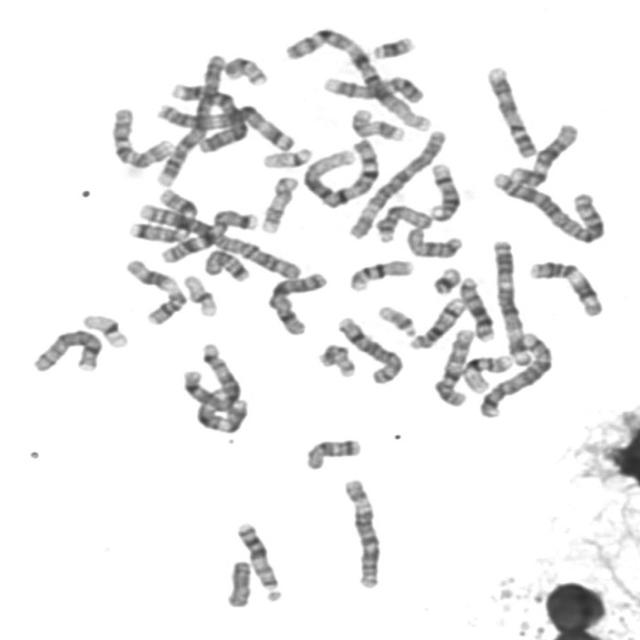A1: (279, 23, 433, 134), (298, 136, 382, 210)
A2: (132, 200, 305, 281), (487, 165, 607, 245)
A3: (150, 96, 298, 152), (487, 234, 534, 367)
B4: (150, 48, 230, 188), (164, 77, 252, 154)
B5: (474, 327, 556, 419), (176, 339, 243, 413)
C10: (106, 102, 175, 171), (428, 324, 478, 408)
C11: (523, 256, 605, 318), (120, 254, 189, 326)
C12: (505, 117, 581, 187), (197, 386, 250, 433)
C6: (344, 125, 449, 241), (337, 474, 384, 590)
C7: (155, 204, 260, 264), (125, 184, 199, 244)
C8: (332, 311, 406, 386), (27, 324, 104, 375)
C9: (480, 61, 539, 159), (316, 69, 427, 104)
D13: (231, 516, 284, 602), (455, 271, 498, 343)
D14: (403, 293, 468, 351), (424, 158, 463, 222)
D15: (369, 200, 435, 244), (401, 222, 465, 260)
E16: (343, 255, 416, 293), (458, 350, 516, 394)
E17: (257, 171, 300, 234), (346, 103, 407, 143)
E18: (300, 433, 363, 472), (199, 244, 252, 283)
F19: (76, 308, 131, 349), (178, 270, 220, 319)
F20: (313, 339, 359, 379), (219, 51, 270, 87)
G21: (366, 30, 417, 61), (427, 262, 463, 296)
G22: (372, 300, 419, 338), (257, 143, 315, 170)
X: (262, 266, 330, 338)
Y: (221, 556, 254, 608)
